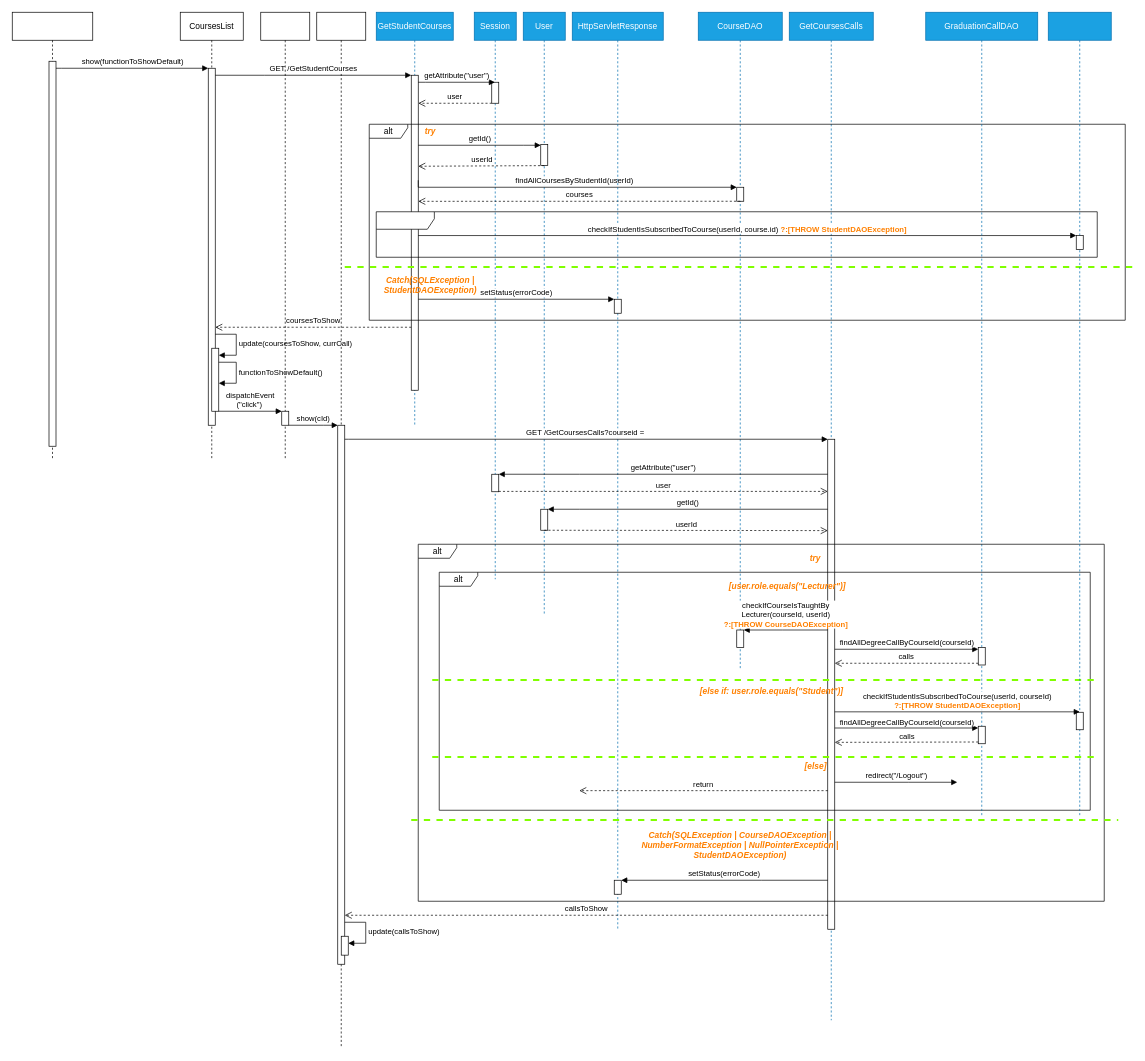
Image size: 1145x1061. Some labels were removed from this diagram. The box of each missing label's shape, as (x1, y1, x2, y2) in pixels:
CallsList: (316, 12, 366, 1048)
forEach: course: (376, 211, 1097, 257)
HTMLTag: (260, 12, 310, 460)
PageOrchestrator: (12, 12, 93, 460)
StudentDAO: (1048, 12, 1111, 817)
